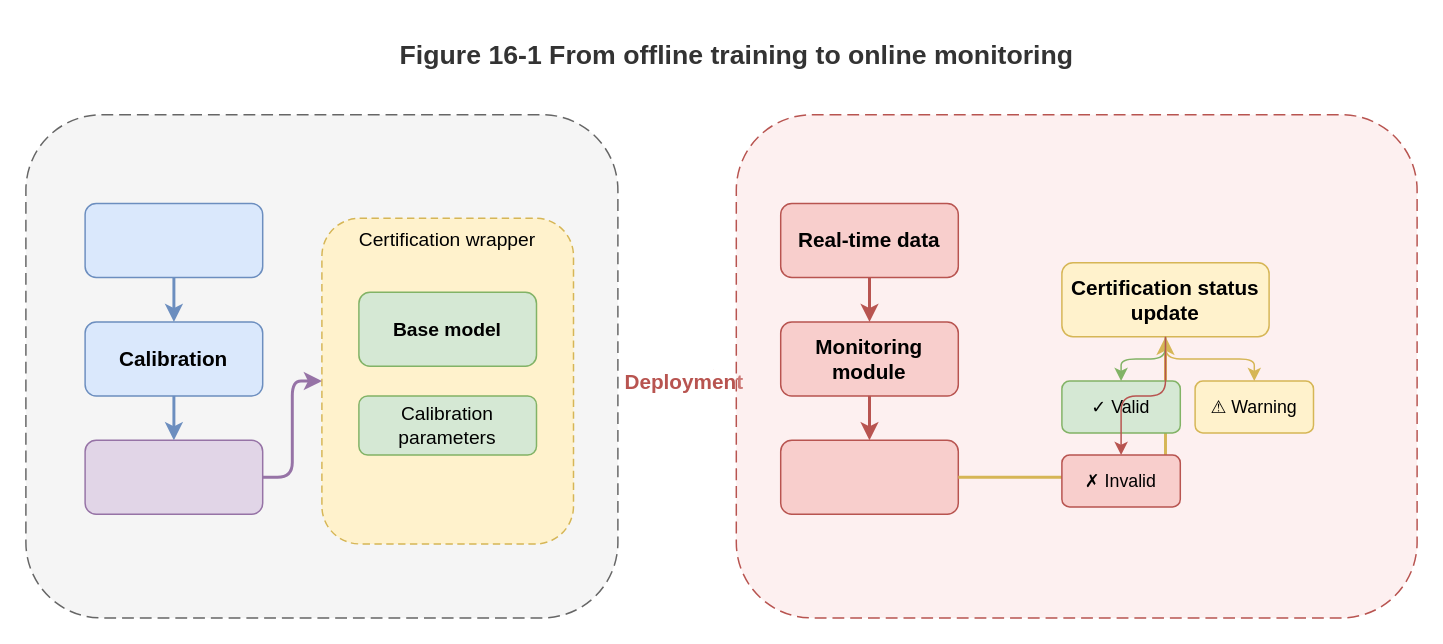
This 1443x644 diagram has some shape labels left out. Here are the shapes that lost their labels. From the top down, the box of each, then its label:
(84, 202, 263, 278): Training
(24, 113, 618, 618): Offline phase
(735, 113, 1417, 618): Online phase
(84, 439, 263, 514): Certification packaging
(779, 439, 958, 514): Statistical testing
